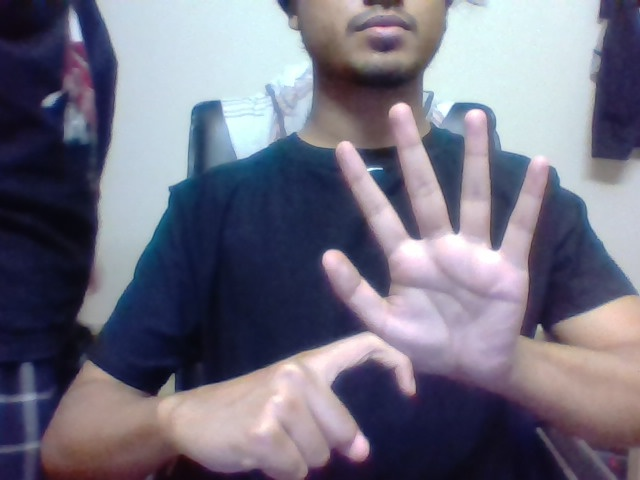R: (309, 332, 424, 464)
